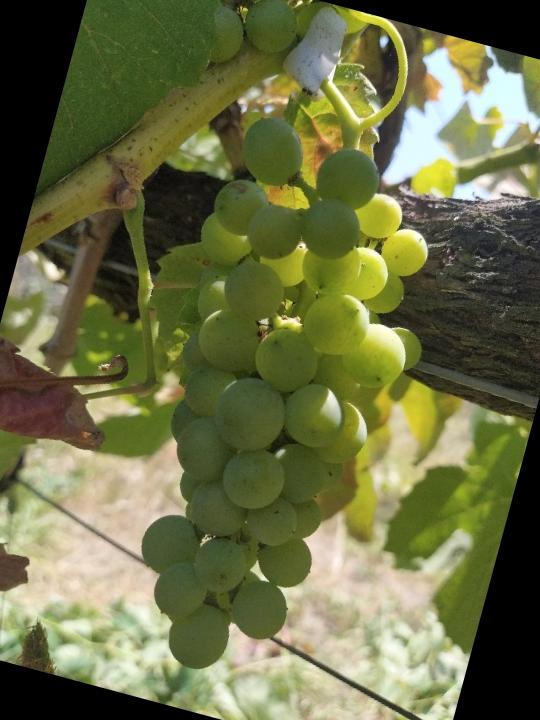grape: (90, 104, 473, 707)
